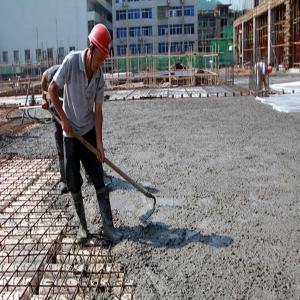red: (86, 23, 114, 72), (268, 64, 274, 76)
